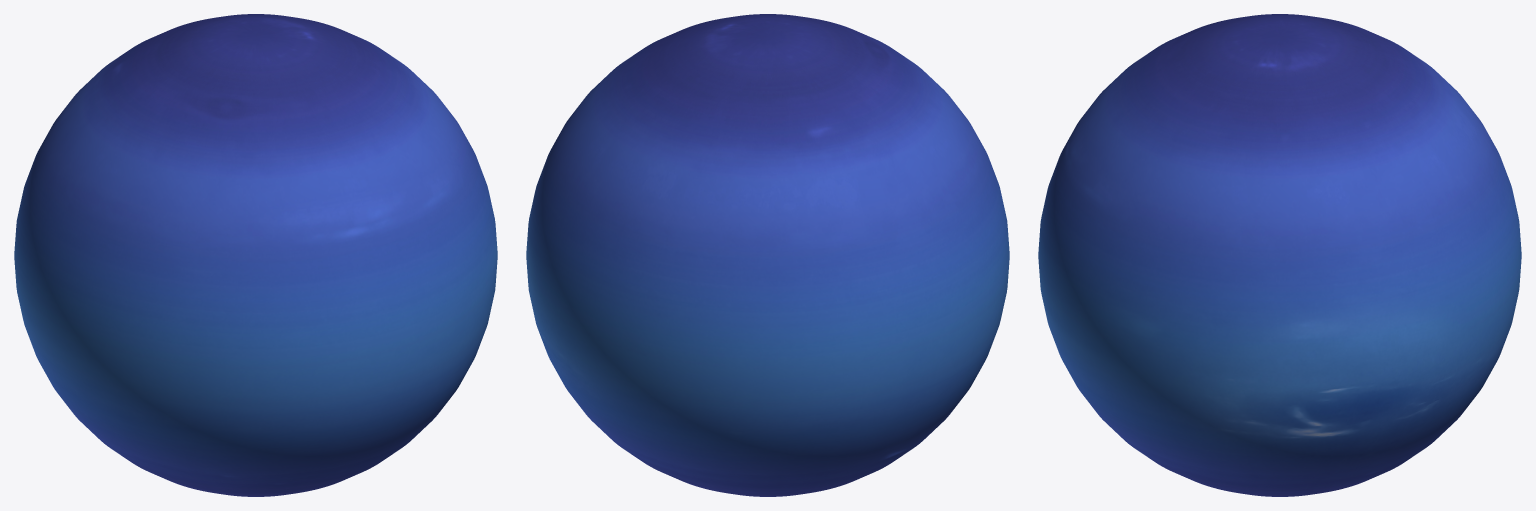
Rendered from neptune.glb.
The picture shows the model from 3 angles, left to right: view 1: azimuth 30°, elevation 25°; view 2: azimuth 150°, elevation 25°; view 3: azimuth 270°, elevation 25°; orthographic projection.
Visible parts, largest first — view 1: Sphere; view 2: Sphere; view 3: Sphere.
Boxes of the visible parts, bbox=[...] form: Sphere: bbox=[14, 14, 497, 496]; Sphere: bbox=[526, 14, 1009, 496]; Sphere: bbox=[1038, 14, 1521, 496].
Size of the model in its own units: 1.6 by 1.6 by 1.6.
1 material, 1 textured.
